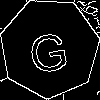G: (24, 23, 70, 75)
